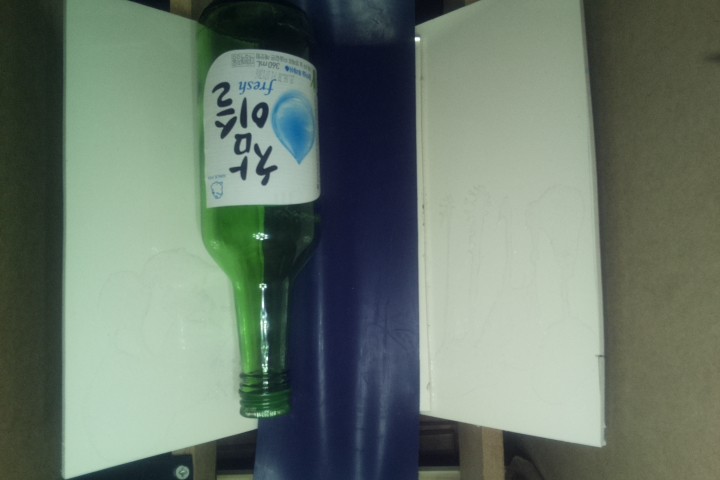soju: (196, 1, 323, 418)
